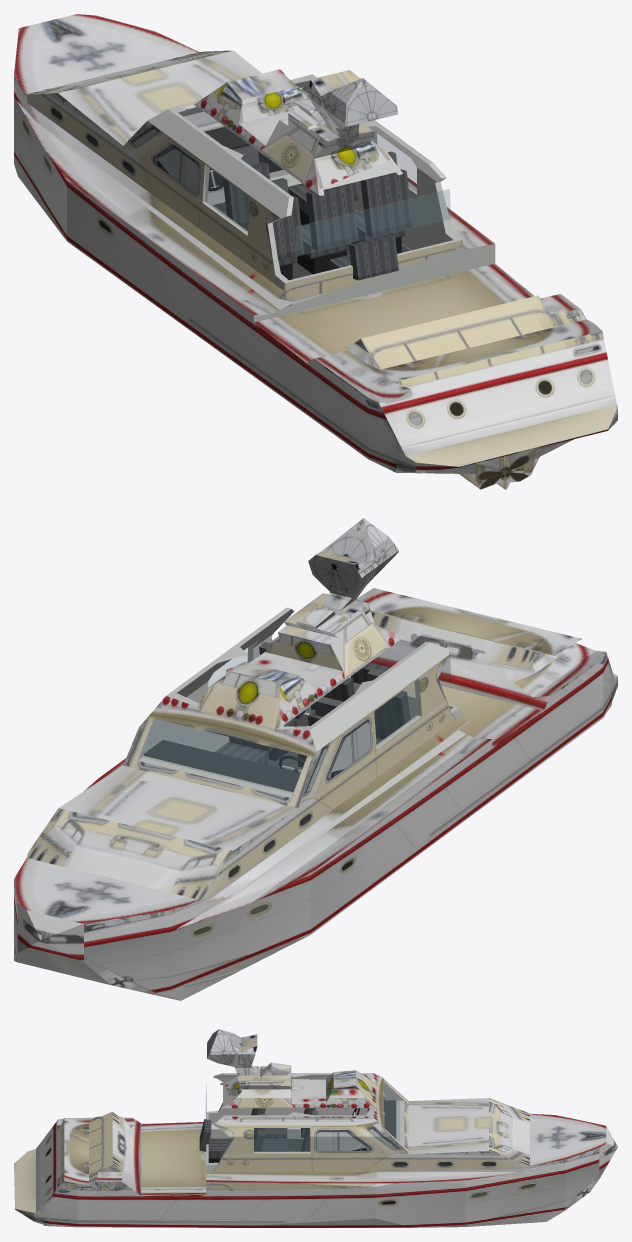
File: coast_guard_boat.glb
3 renders of one model, top to bottom at view 1: azimuth 30°, elevation 25°; view 2: azimuth 150°, elevation 25°; view 3: azimuth 270°, elevation 25°, orthographic. The views are drawn at different scales.
Visible parts, largest first — view 1: coast_guard_boat, coast_guard_boat_cabin; view 2: coast_guard_boat, coast_guard_boat_cabin; view 3: coast_guard_boat, coast_guard_boat_cabin.
Boxes of the visible parts, x1=… form: coast_guard_boat: x1=14, y1=14, x2=617, y2=489; coast_guard_boat_cabin: x1=184, y1=87, x2=450, y2=280; coast_guard_boat: x1=14, y1=518, x2=617, y2=1000; coast_guard_boat_cabin: x1=142, y1=640, x2=450, y2=793; coast_guard_boat: x1=14, y1=1029, x2=617, y2=1227; coast_guard_boat_cabin: x1=199, y1=1079, x2=399, y2=1162.
Bounding box in the file's own units: 2.93 × 3.48 × 9.97.
11 materials, 4 textured.
